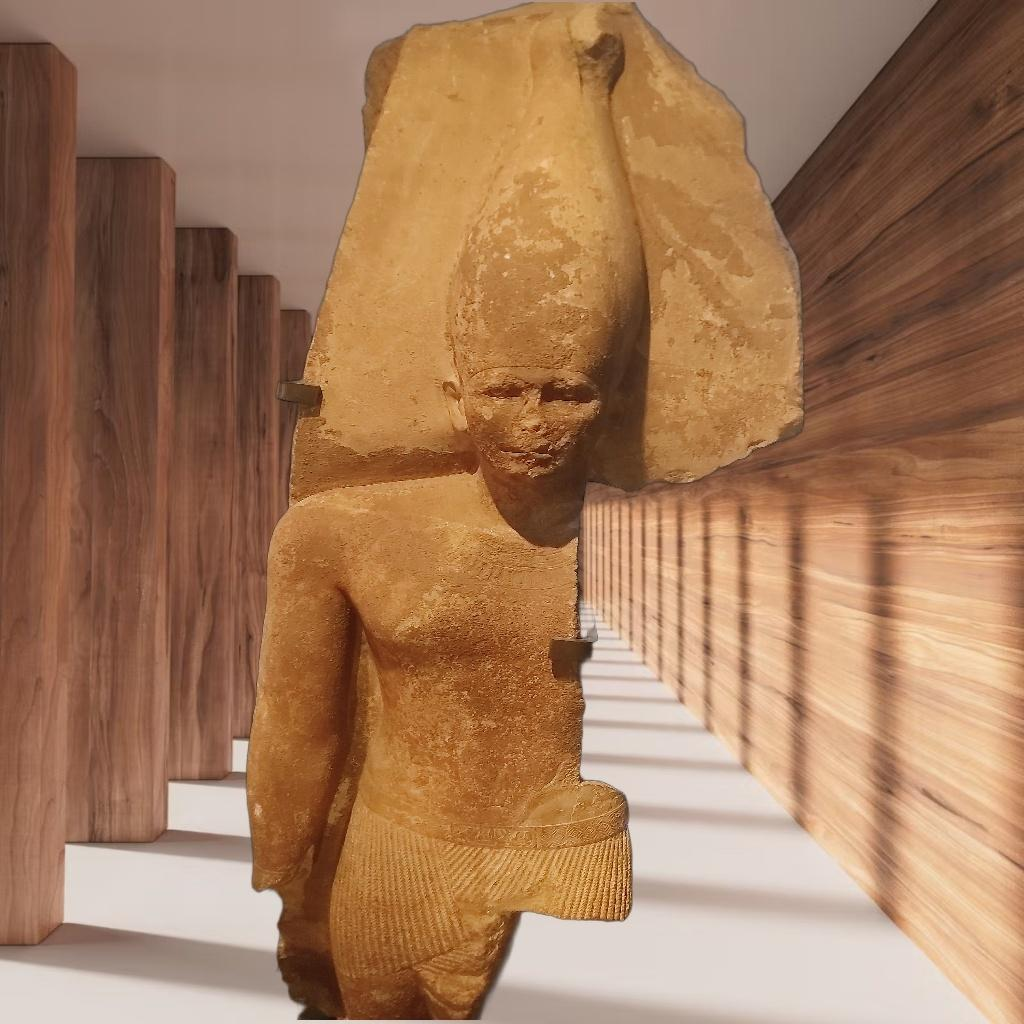Statue of Snefru: (239, 2, 810, 1020)
